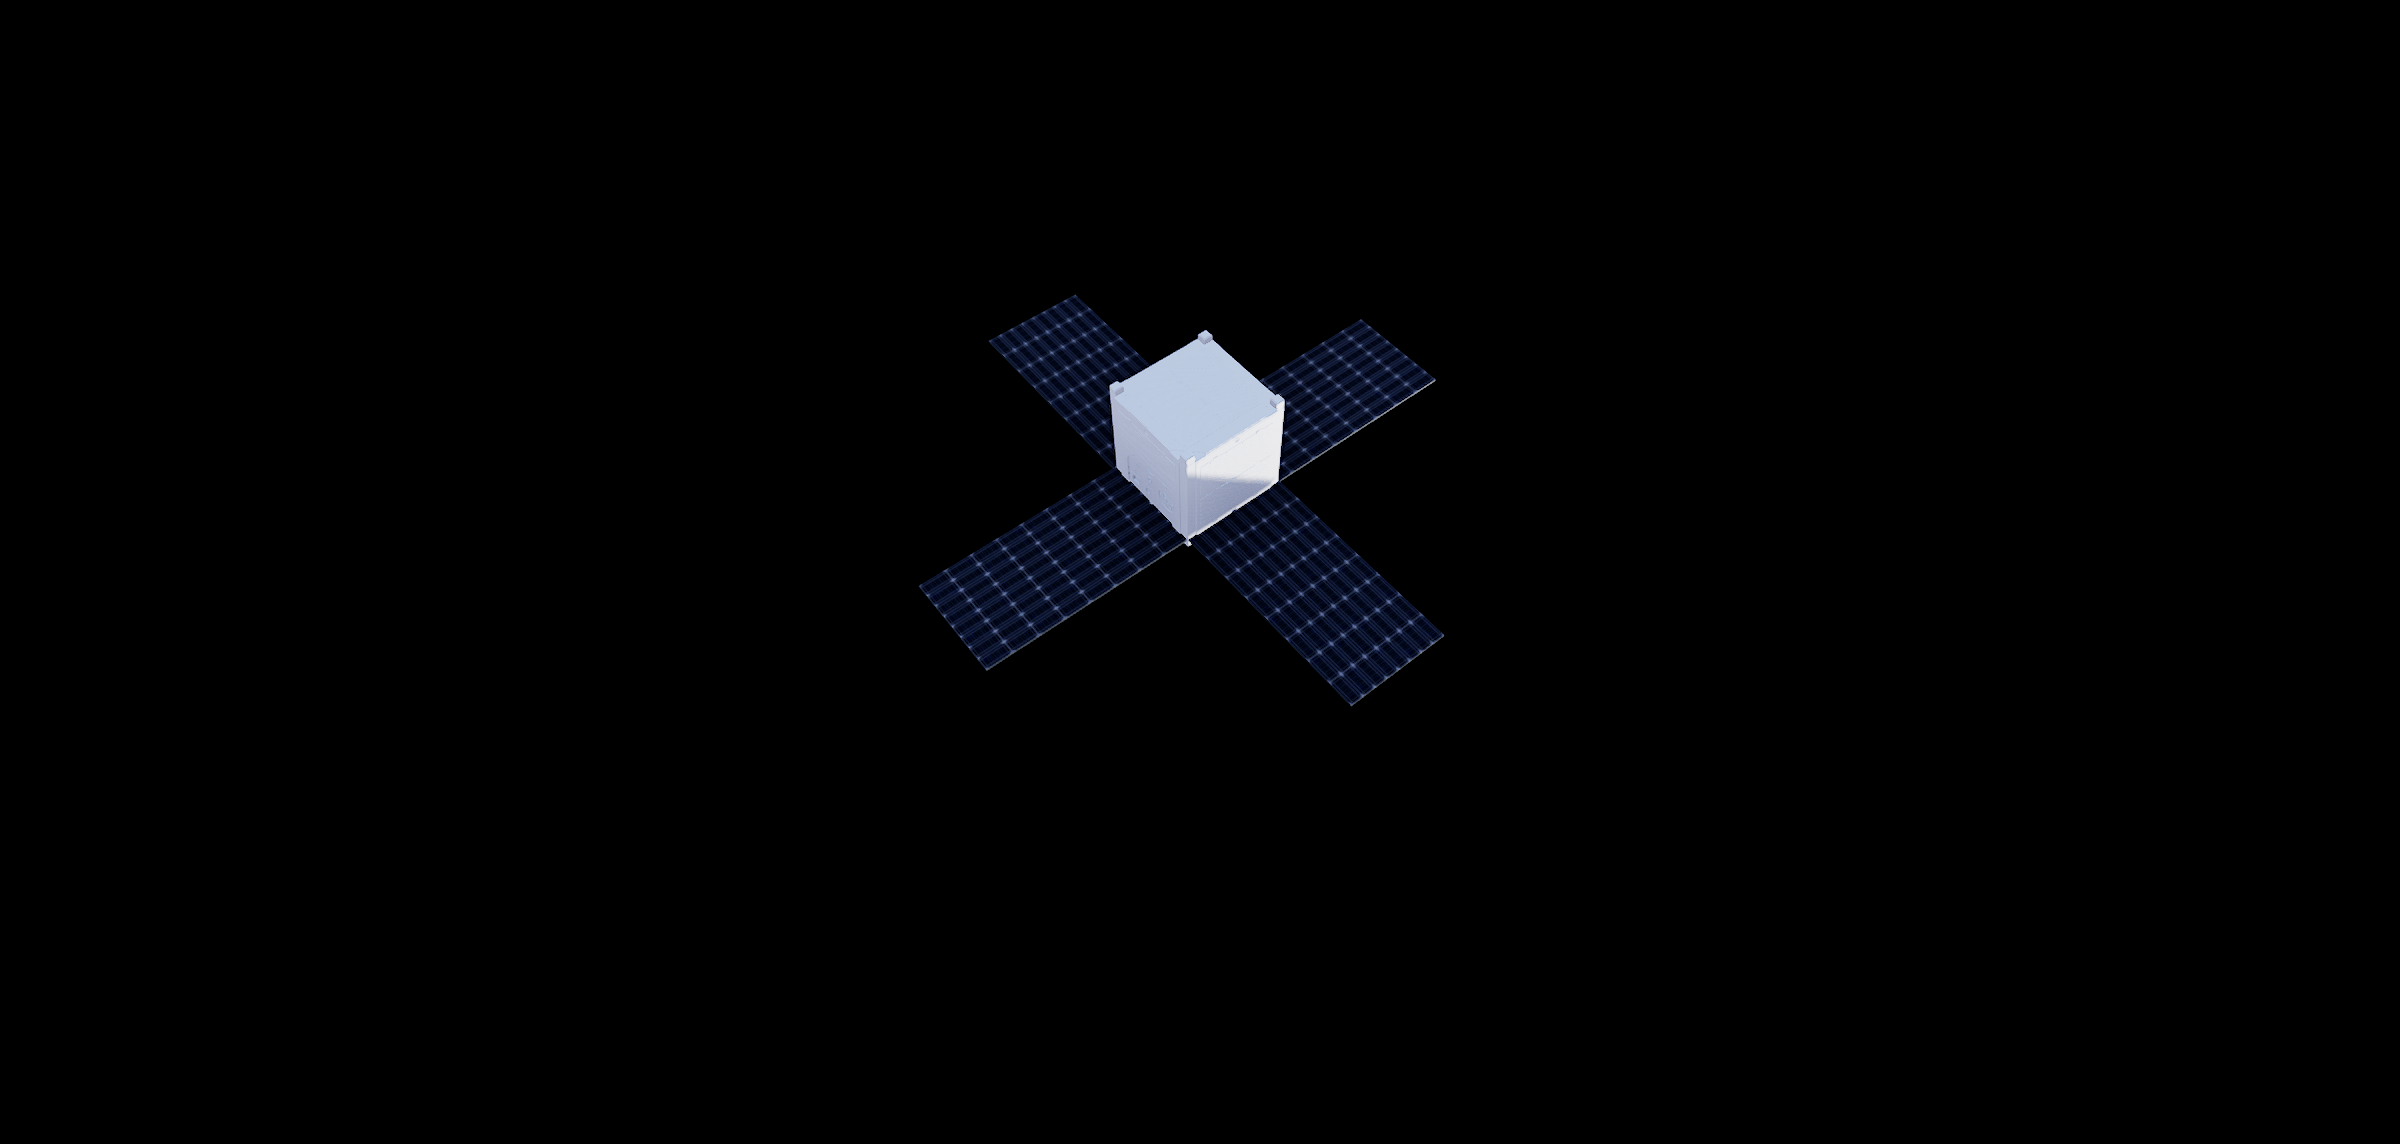satellite: (920, 277, 1497, 750)
